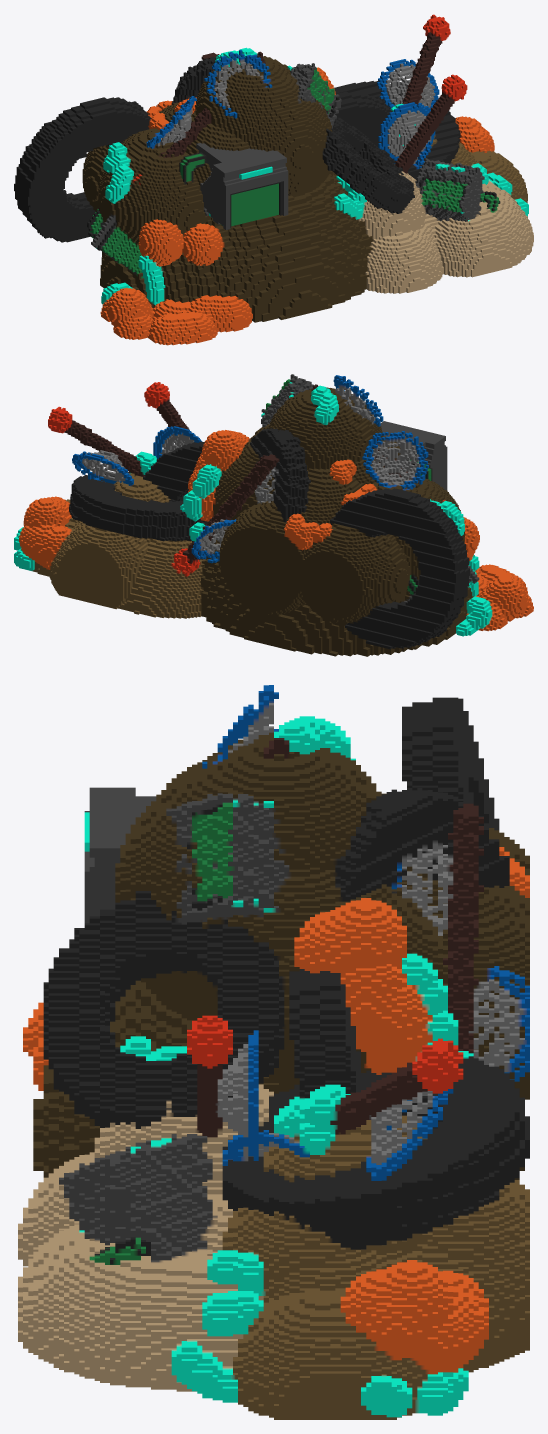
The model's file is Lab-0-LargeJunk.fbx.
3 renders of one model, top to bottom at view 1: azimuth 30°, elevation 25°; view 2: azimuth 150°, elevation 25°; view 3: azimuth 270°, elevation 25°, orthographic. The views are drawn at different scales.
Visible parts, largest first — view 1: LargeJunk; view 2: LargeJunk; view 3: LargeJunk.
Part boxes in pixels (x1,y1,x2,y2): LargeJunk: (14, 14, 533, 345); LargeJunk: (14, 374, 533, 656); LargeJunk: (18, 685, 529, 1419).
Bounding box in the file's own units: 208 × 96 × 100.
